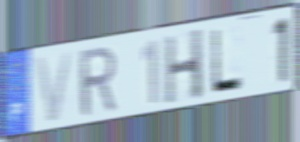1: (270, 15, 290, 86), (141, 37, 160, 107)
H: (163, 26, 205, 106)
L: (210, 26, 244, 96)
R: (77, 43, 118, 121)
V: (33, 48, 76, 125)
